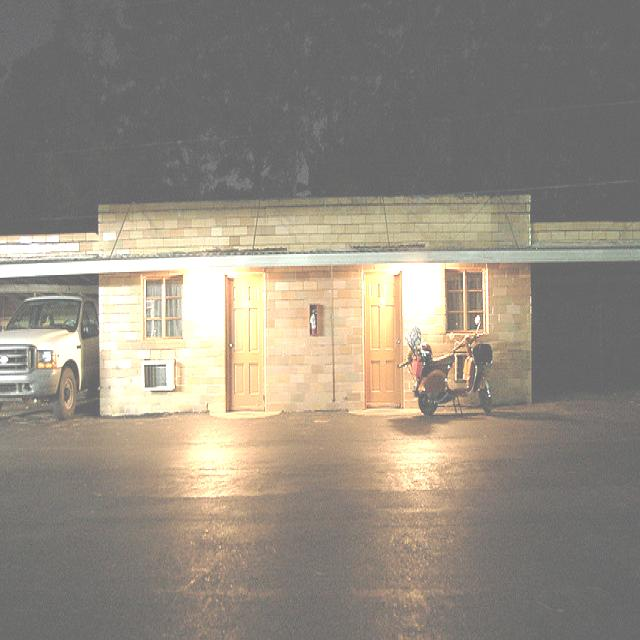Motorbike: (400, 320, 495, 414)
